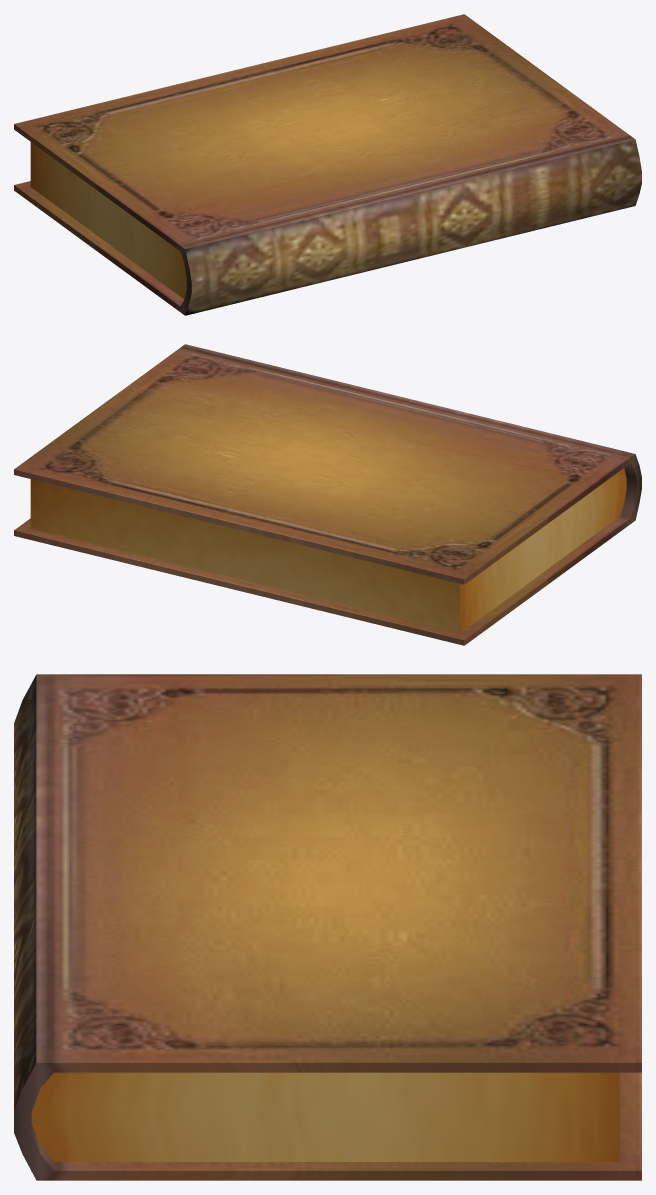
File: closed book.fbx
The picture shows the model from 3 angles, top to bottom: view 1: azimuth 30°, elevation 25°; view 2: azimuth 150°, elevation 25°; view 3: azimuth 270°, elevation 25°; orthographic projection. The views are drawn at different scales.
Parts seen in each view (by area): view 1: polySurface305; view 2: polySurface305; view 3: polySurface305.
Part boxes in pixels (x1=…): polySurface305: x1=14, y1=14, x2=641, y2=315; polySurface305: x1=14, y1=344, x2=641, y2=645; polySurface305: x1=14, y1=674, x2=641, y2=1180.
Bounding box in the file's own units: 25.61 × 3.61 × 17.49.
1 material, 1 textured.
